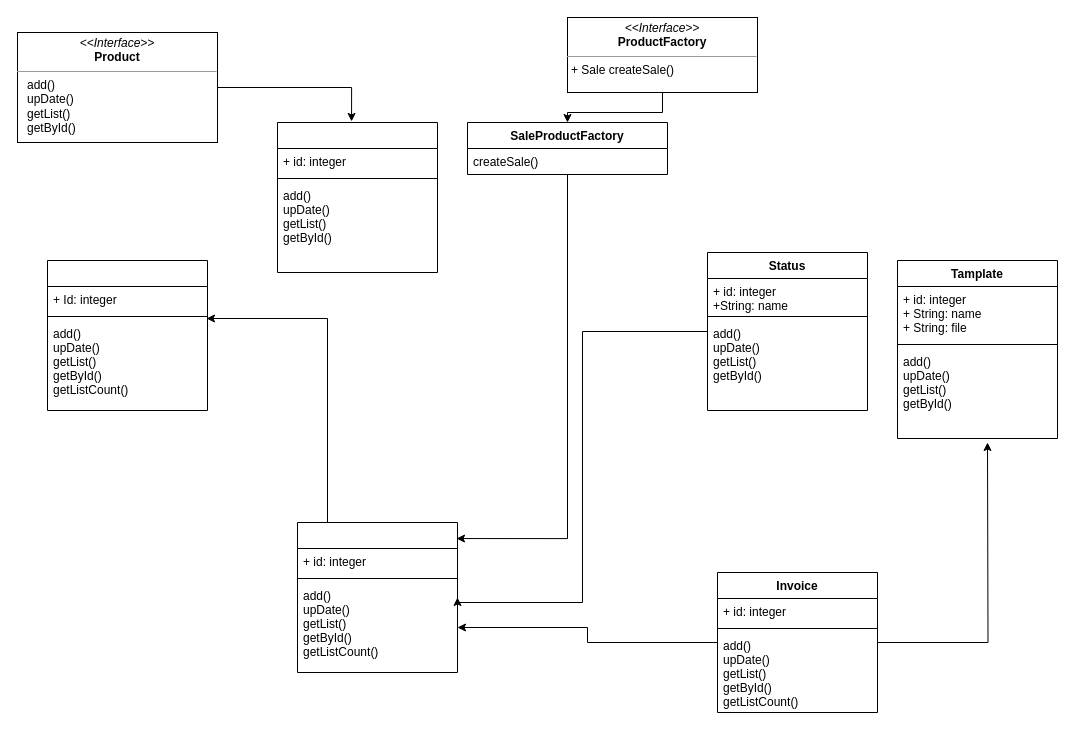
This 1075x733 diagram has some shape labels left out. The shapes that lost their labels are listed below. From the top down, each one's box as (x1, y1, x2, y2) in pixels, then its label:
(276, 122, 438, 272): Sales
(46, 260, 208, 410): Company
(296, 522, 458, 672): Deal
